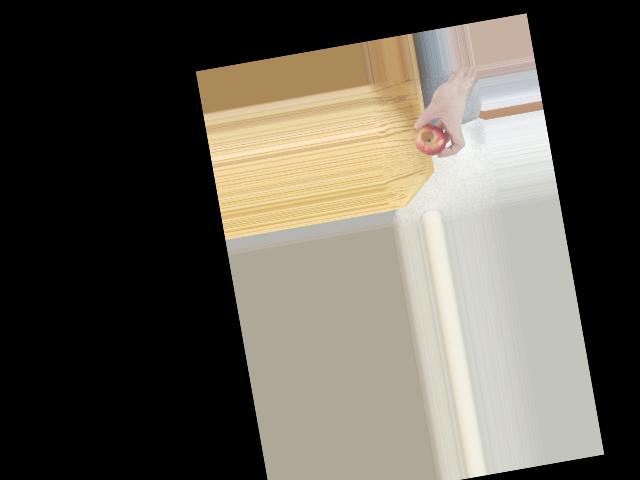apple: (411, 116, 447, 158)
